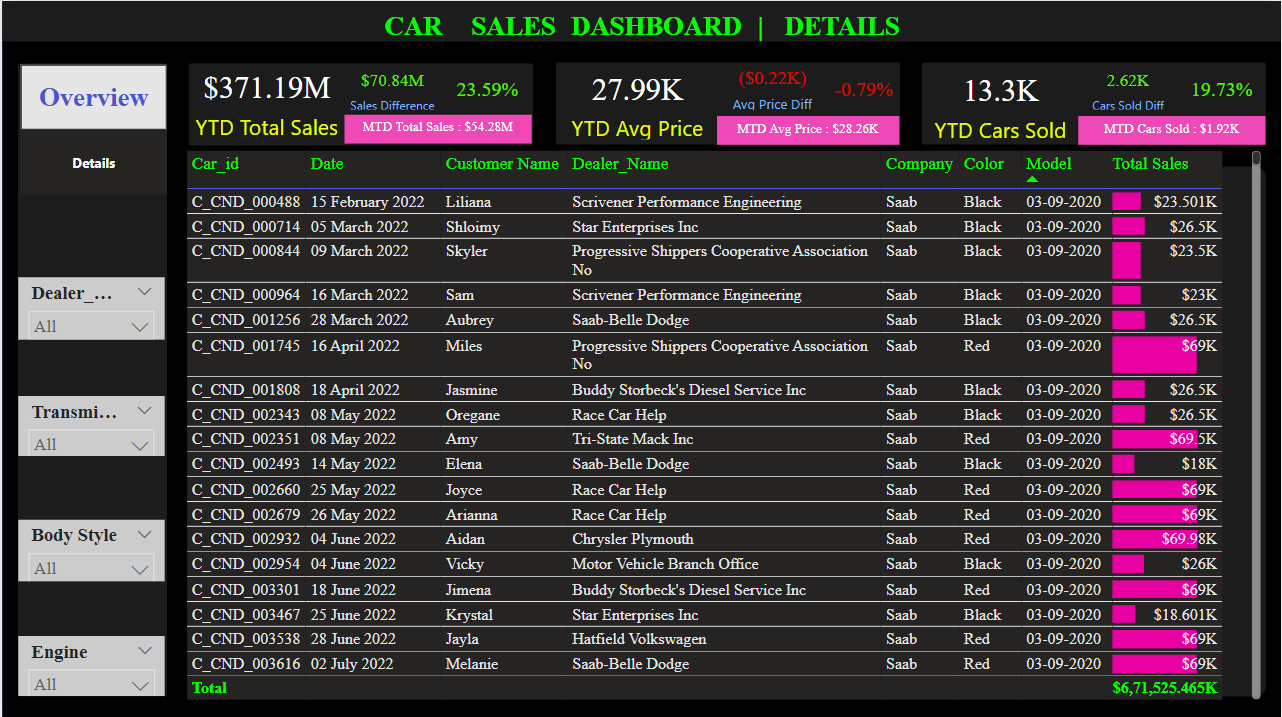

This screenshot's page, from the dashboard's own definition file:
{"tool":"powerbi","page":{"name":"Details","canvas":[1280,720],"ordinal":1},"visuals":[{"type":"card","fields":{"Values":["car_data.YTD Total Sales"]},"box":[187.5,58.8,155,83.8],"z":0},{"type":"card","fields":{"Values":["car_data.Sales Difference"]},"box":[342.5,63.8,96.2,50],"z":1000},{"type":"card","fields":{"Values":["car_data.YoY Sales Growth"]},"box":[438.8,65,93.8,48.8],"z":2000},{"type":"card","fields":{"Values":["car_data.MTD KPI"]},"box":[342.5,114,187,28.5],"z":3000},{"type":"card","fields":{"Values":["car_data.YTD Avg Price"]},"box":[556.2,60,158.8,83.8],"z":4000},{"type":"card","fields":{"Values":["car_data.Avg Price Diff"]},"box":[715.6,58.9,111.1,55.6],"z":5000},{"type":"card","fields":{"Values":["car_data.YoY Avg Price Growth"]},"box":[826.7,63.3,71.1,51.1],"z":6000},{"type":"card","fields":{"Values":["car_data.MTD Avg Price KPI"]},"box":[715.6,114.4,182.2,28.9],"z":7000},{"type":"card","fields":{"Values":["car_data.YTD Cars Sold"]},"box":[921.2,63.8,155,80],"z":8000},{"type":"card","fields":{"Values":["car_data.Cars Sold Diff"]},"box":[1076.2,63.8,100,50],"z":9000},{"type":"card","fields":{"Values":["car_data.YoY Car Sold Growth"]},"box":[1175.9,63.5,87.1,50.6],"z":10000},{"type":"card","fields":{"Values":["car_data.MTD Cars Sold KPI"]},"box":[1076.2,115,187.5,28.8],"z":11000},{"type":"textbox","box":[0,0,1280,41.2],"z":12000},{"type":"slicer","fields":{"Values":["car_data.Body Style"]},"box":[16.2,518.8,146.2,61.2],"z":13000},{"type":"slicer","fields":{"Values":["car_data.Dealer_Name"]},"box":[16.2,276.2,146.2,62.5],"z":14000},{"type":"slicer","fields":{"Values":["car_data.Transmission"]},"box":[16.2,395,146.2,60],"z":15000},{"type":"slicer","fields":{"Values":["car_data.Engine"]},"box":[16.7,635,146.7,60],"z":16000},{"type":"tableEx","fields":{"Values":["car_data.Car_id","car_data.Date","car_data.Customer Name","car_data.Dealer_Name","car_data.Company","car_data.Color","car_data.Model","car_data.Price ($)"]},"box":[178.8,145,1085,558.8],"z":17000},{"type":"pageNavigator","box":[18.8,63.8,146.2,130],"z":17001}]}

Visuals, with their boxes in screenshot pixels (x1, y1, x2, y2), scaled from the page's 1280x720 canvas onto the 1282x717 screenshot:
card - car_data.YTD Total Sales: left=188, top=59, right=343, bottom=142
card - car_data.Sales Difference: left=343, top=64, right=439, bottom=113
card - car_data.YoY Sales Growth: left=439, top=65, right=533, bottom=113
card - car_data.MTD KPI: left=343, top=114, right=530, bottom=142
card - car_data.YTD Avg Price: left=557, top=60, right=716, bottom=143
card - car_data.Avg Price Diff: left=717, top=59, right=828, bottom=114
card - car_data.YoY Avg Price Growth: left=828, top=63, right=899, bottom=114
card - car_data.MTD Avg Price KPI: left=717, top=114, right=899, bottom=143
card - car_data.YTD Cars Sold: left=923, top=64, right=1078, bottom=143
card - car_data.Cars Sold Diff: left=1078, top=64, right=1178, bottom=113
card - car_data.YoY Car Sold Growth: left=1178, top=63, right=1265, bottom=114
card - car_data.MTD Cars Sold KPI: left=1078, top=115, right=1266, bottom=143
textbox: left=0, top=0, right=1281, bottom=41
slicer - car_data.Body Style: left=16, top=517, right=163, bottom=578
slicer - car_data.Dealer_Name: left=16, top=275, right=163, bottom=337
slicer - car_data.Transmission: left=16, top=393, right=163, bottom=453
slicer - car_data.Engine: left=17, top=632, right=164, bottom=692
tableEx - car_data.Car_id x car_data.Date: left=179, top=144, right=1266, bottom=701
pageNavigator: left=19, top=64, right=165, bottom=193
